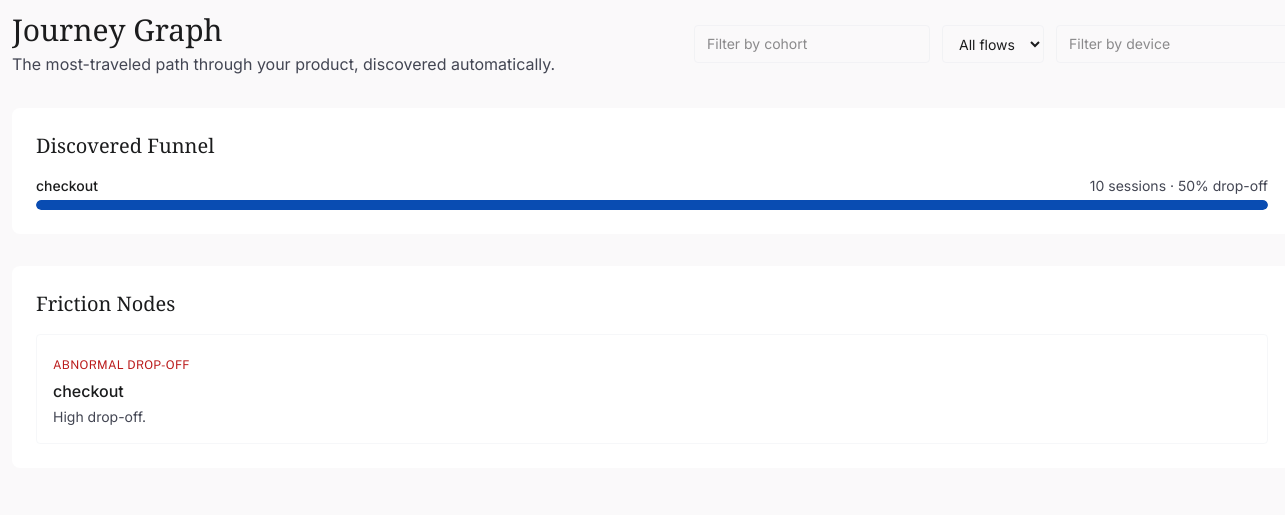
JourneyGraphPage › explains export access to viewers before they can submit an export
Click the button "Abnormal drop-off checkout High drop-off." at x=121, y=365, box [36,334,1268,444]
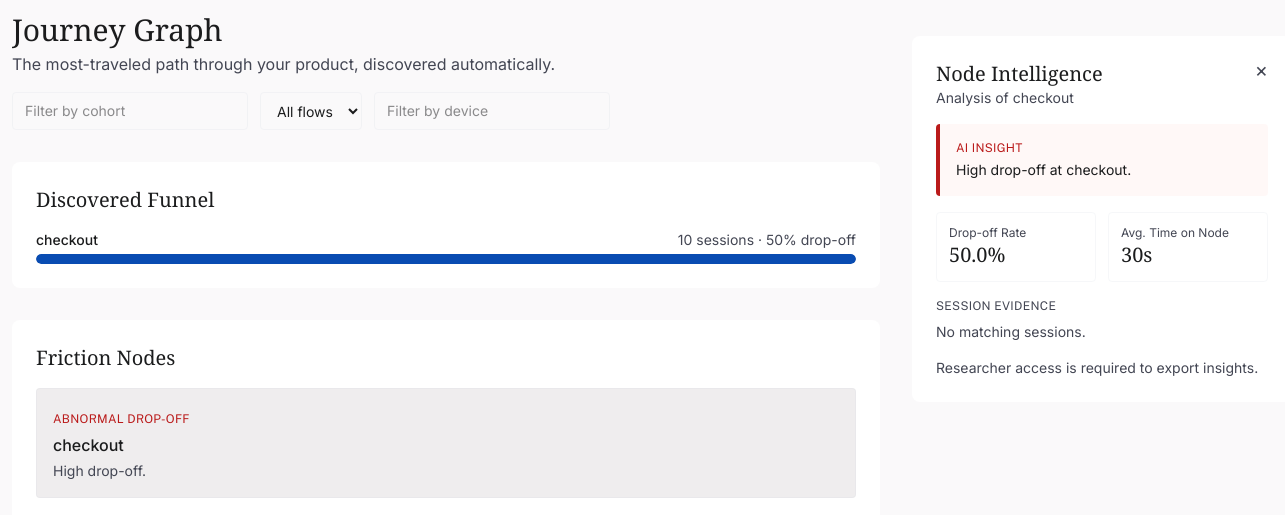
Now the text "Researcher access is required to export insights." is shown, box [936,358,1268,378]
